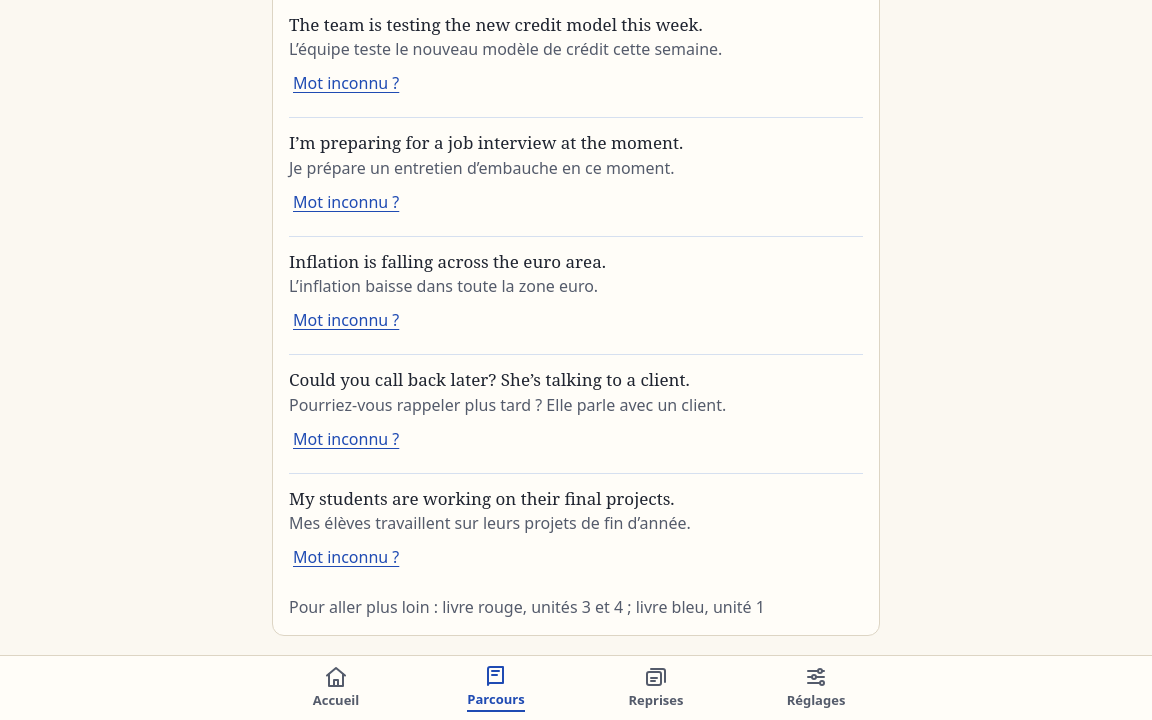
Scenario: meaning of an unknown word, proposed by the AI (D-095) › says why the meaning could not be obtained, and lets the learner type it
(page scrolled)
Click the 3rd button "Mot inconnu ?".
click(346, 320)  # box [289,298,403,342]
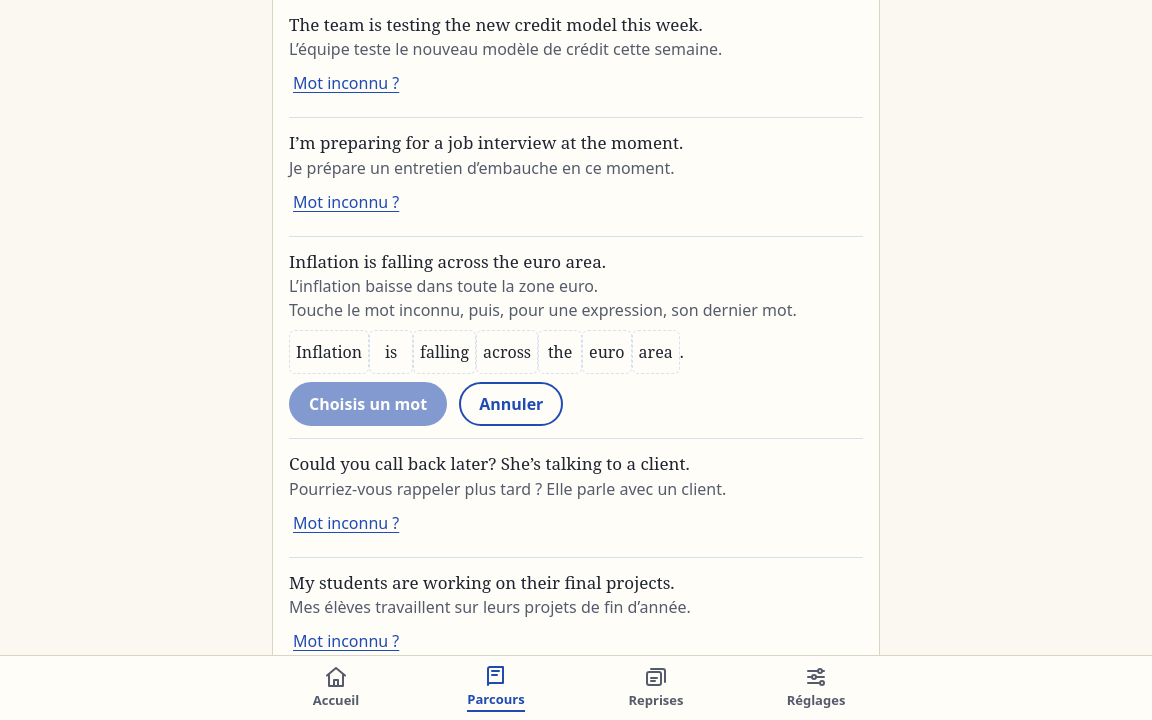
Click the button "across".
click(507, 352)  # box [476,330,538,374]
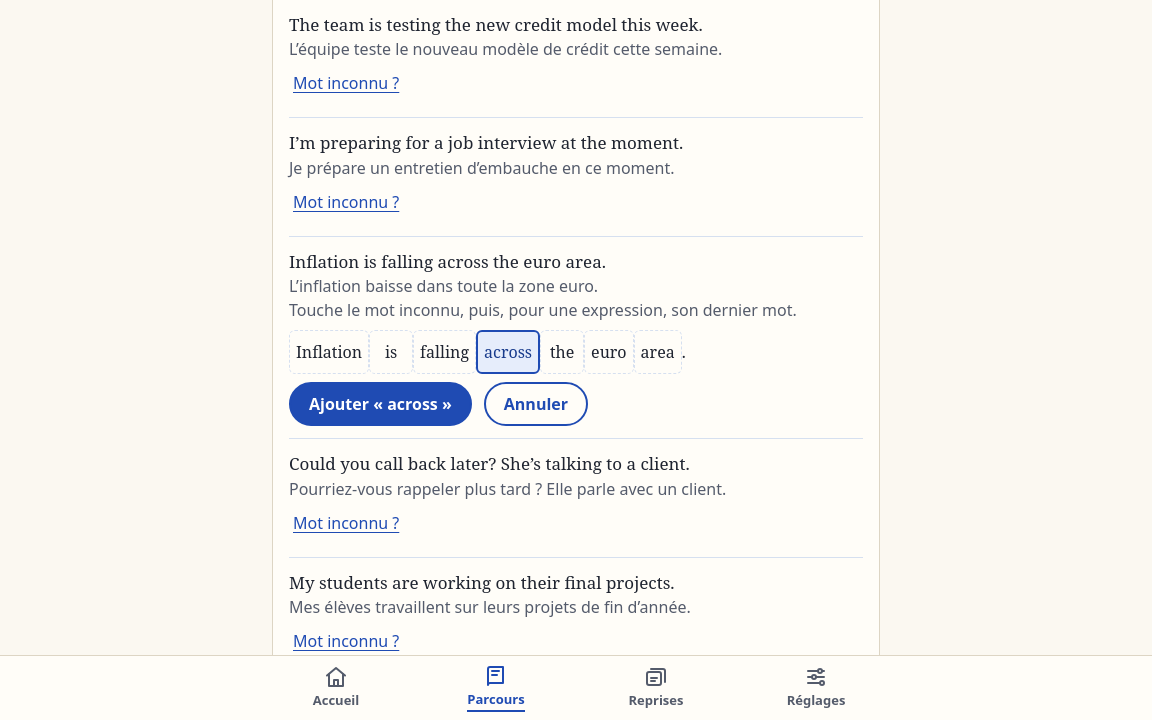
Click the button "Ajouter « across »".
click(380, 404)  # box [289,382,472,426]
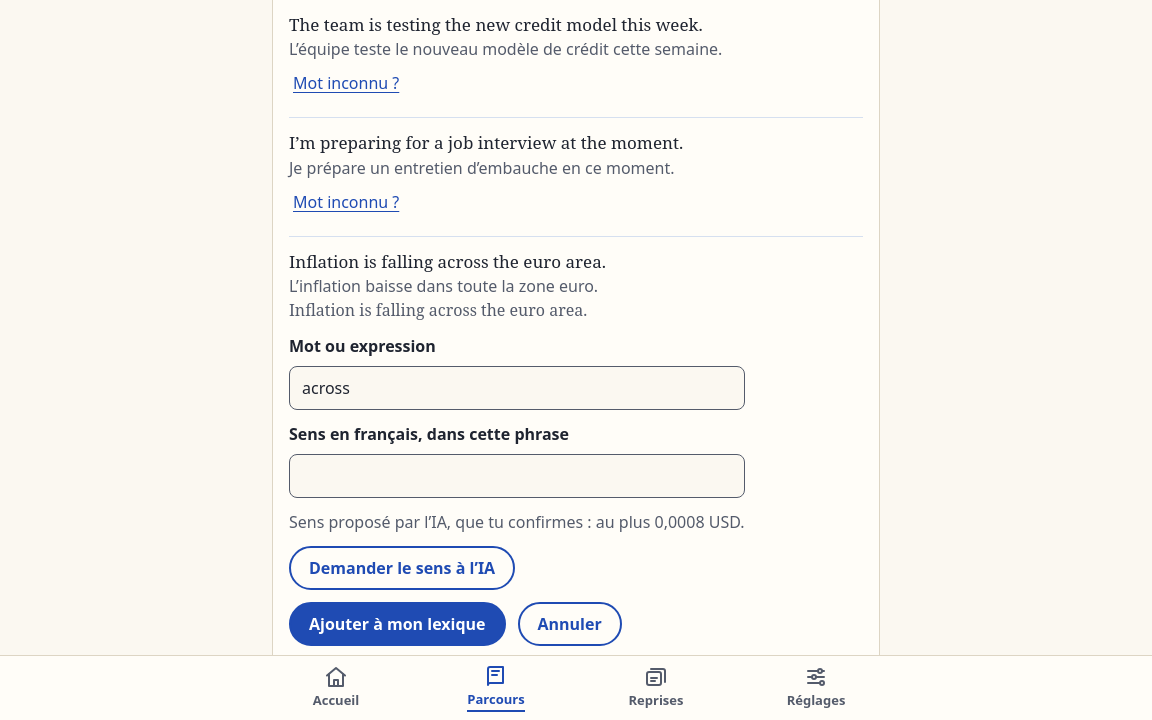
Expected: the field labelled "Sens en français, dans cette phrase" is enabled, [289,454,744,498]
Click the button "Demander le sens à l’IA".
click(402, 568)  # box [289,546,515,590]
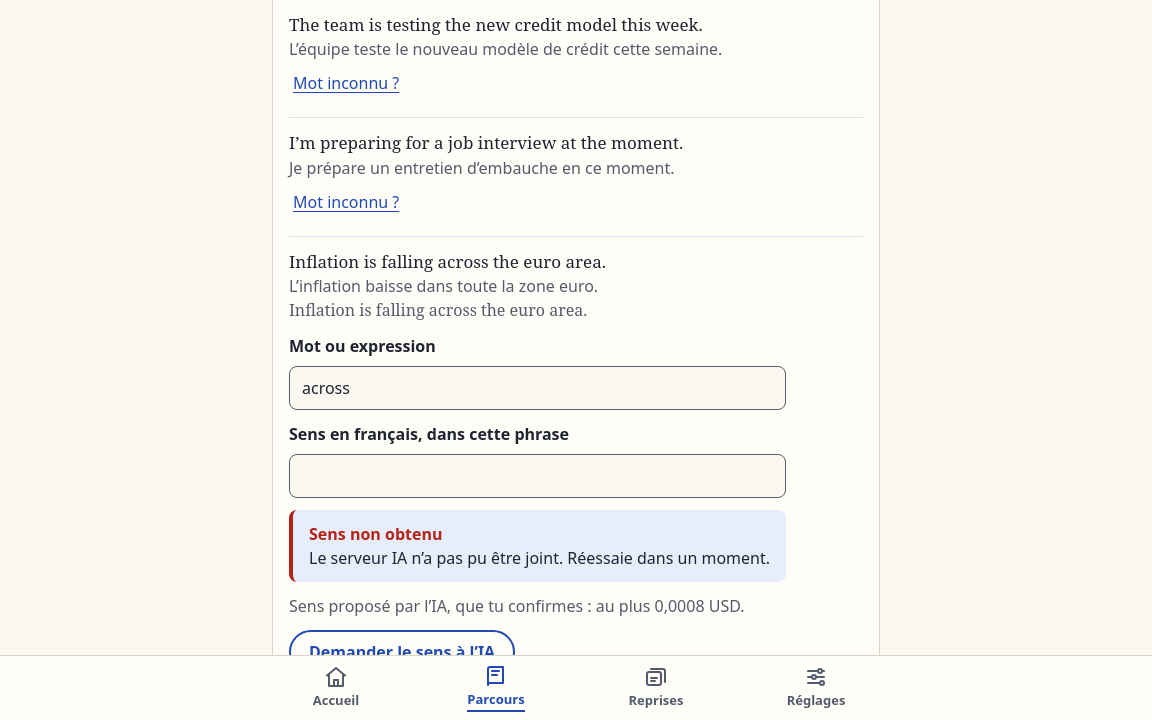
Expected: the field labelled "Sens en français, dans cette phrase" is empty, [289,454,786,498]
Expected: the field labelled "Sens en français, dans cette phrase" is enabled, [289,454,786,498]
Expected: the text "Sens non obtenu" is shown, [309,523,442,545]
